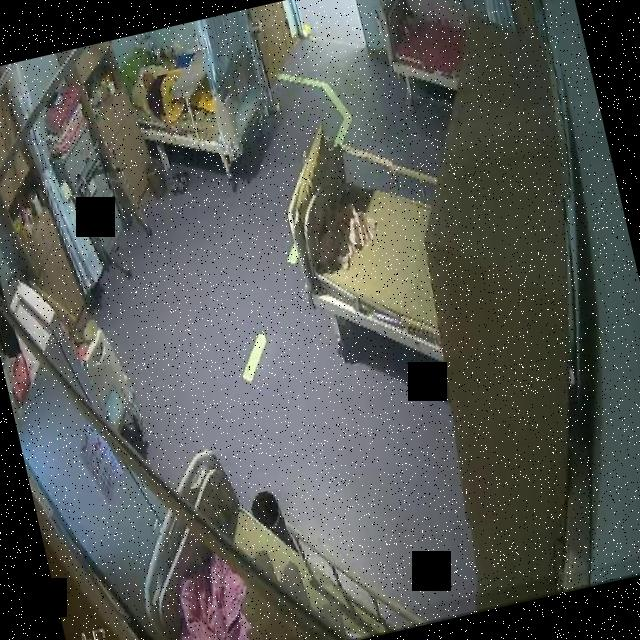bed: (112, 417, 395, 640), (270, 125, 446, 392), (130, 44, 284, 206), (367, 0, 462, 116)
walker: (66, 131, 162, 288)
